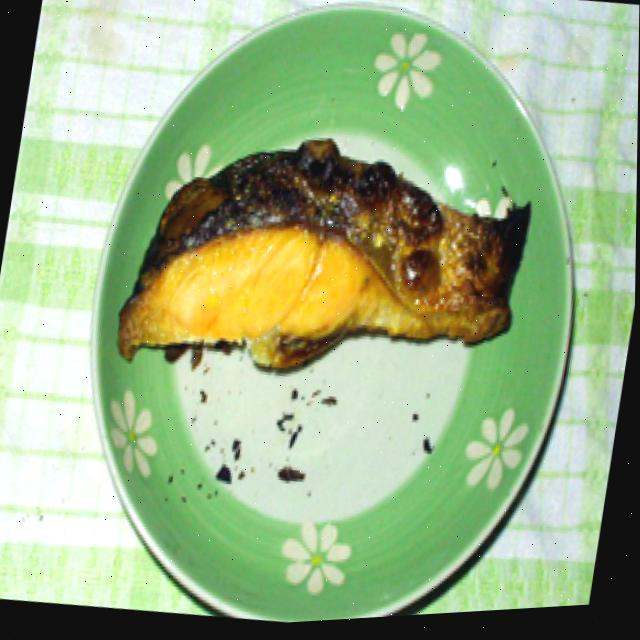熟制海鲜: (116, 113, 540, 417)
